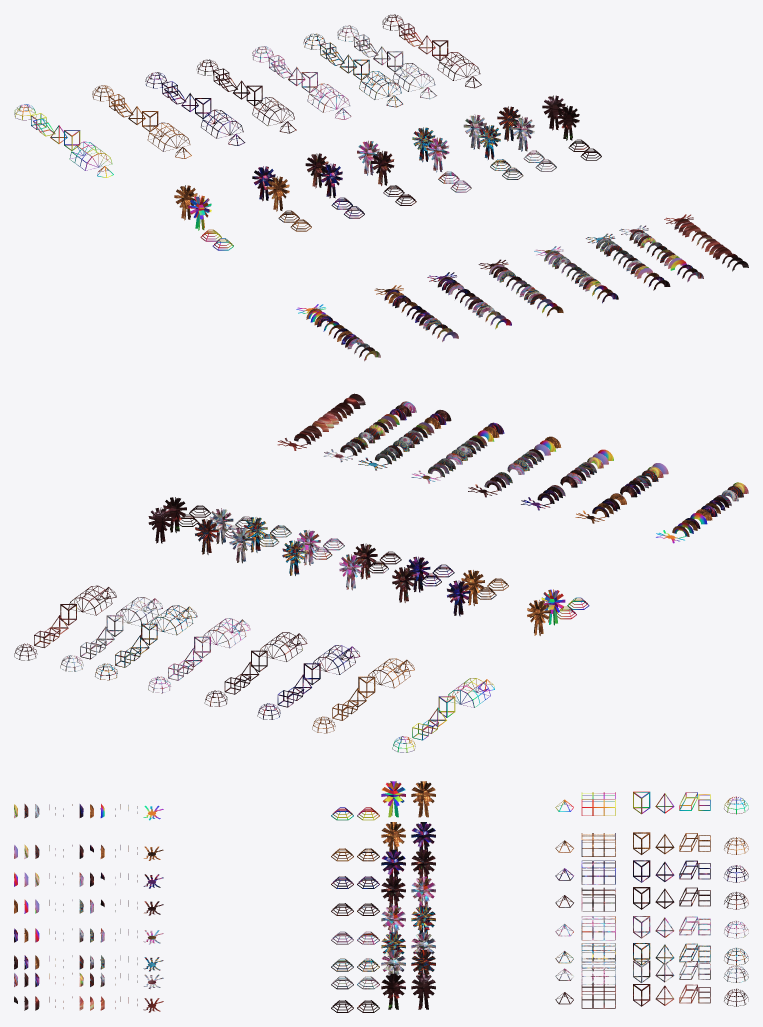
Rendered from PlayaToolkitAdvanceddoublesided.fbx.
3 renders of one model, top to bottom at view 1: azimuth 30°, elevation 25°; view 2: azimuth 150°, elevation 25°; view 3: azimuth 270°, elevation 25°, orthographic. The views are drawn at different scales.
Visible parts, largest first — view 1: no part large enough to name; view 2: no part large enough to name; view 3: pSphere4 (×2), pSphere5 (×2), pSphere23, pSphere22, pSphere10, pSphere11, pSphere7, pSphere13, pSphere14, pSphere6, pSphere18, pSphere19 (+2 smaller).
Boxes of the visible parts, left/top/right/bottom form: pSphere4 (×2): left=381, top=781, right=405, bottom=857; pSphere5 (×2): left=411, top=781, right=435, bottom=857; pSphere23: left=381, top=973, right=405, bottom=1009; pSphere22: left=411, top=973, right=435, bottom=1009; pSphere10: left=411, top=876, right=435, bottom=912; pSphere11: left=381, top=876, right=405, bottom=912; pSphere7: left=411, top=849, right=435, bottom=885; pSphere13: left=381, top=905, right=405, bottom=940; pSphere14: left=411, top=905, right=435, bottom=940; pSphere6: left=381, top=849, right=405, bottom=884; pSphere18: left=411, top=950, right=435, bottom=981; pSphere19: left=381, top=950, right=405, bottom=982.
Size of the model in its own units: 80.1 by 6.1 by 117.
